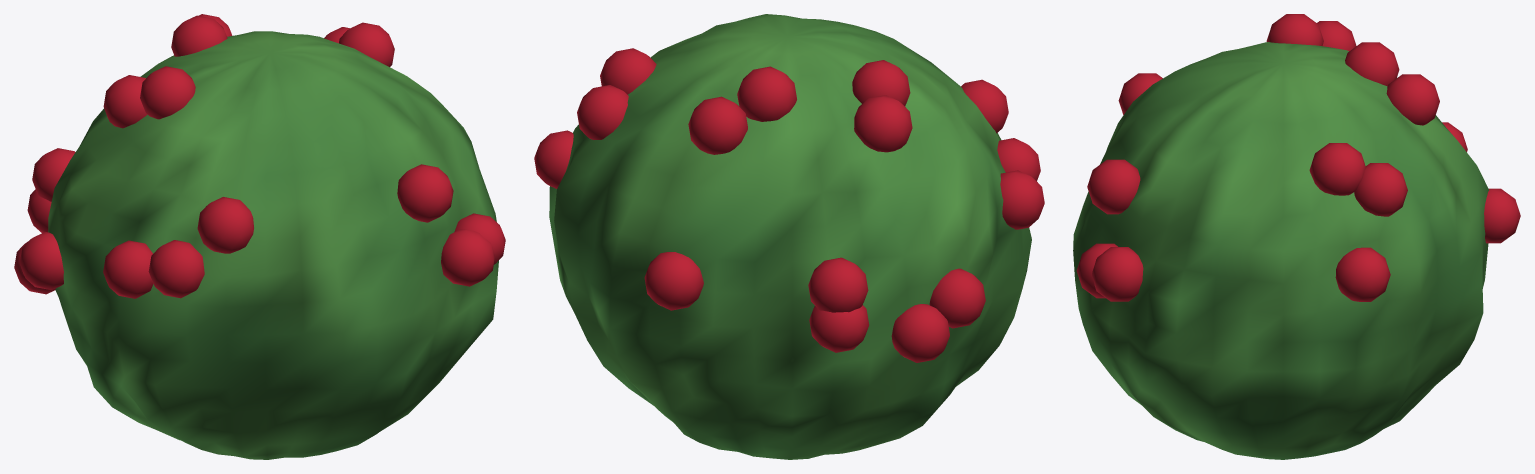
The model's file is furn_od_rose_bush.glb.
The picture shows the model from 3 angles, left to right: view 1: azimuth 30°, elevation 25°; view 2: azimuth 150°, elevation 25°; view 3: azimuth 270°, elevation 25°; orthographic projection. The views are drawn at different scales.
Parts seen in each view (by area): view 1: furn_od_rose_bush_main; view 2: furn_od_rose_bush_main; view 3: furn_od_rose_bush_main.
Part boxes in pixels (x1,y1,x2,y2): furn_od_rose_bush_main: (14, 14, 505, 459); furn_od_rose_bush_main: (534, 14, 1044, 459); furn_od_rose_bush_main: (1073, 14, 1520, 459).
Size of the model in its own units: 0.811 by 0.735 by 0.7796.
